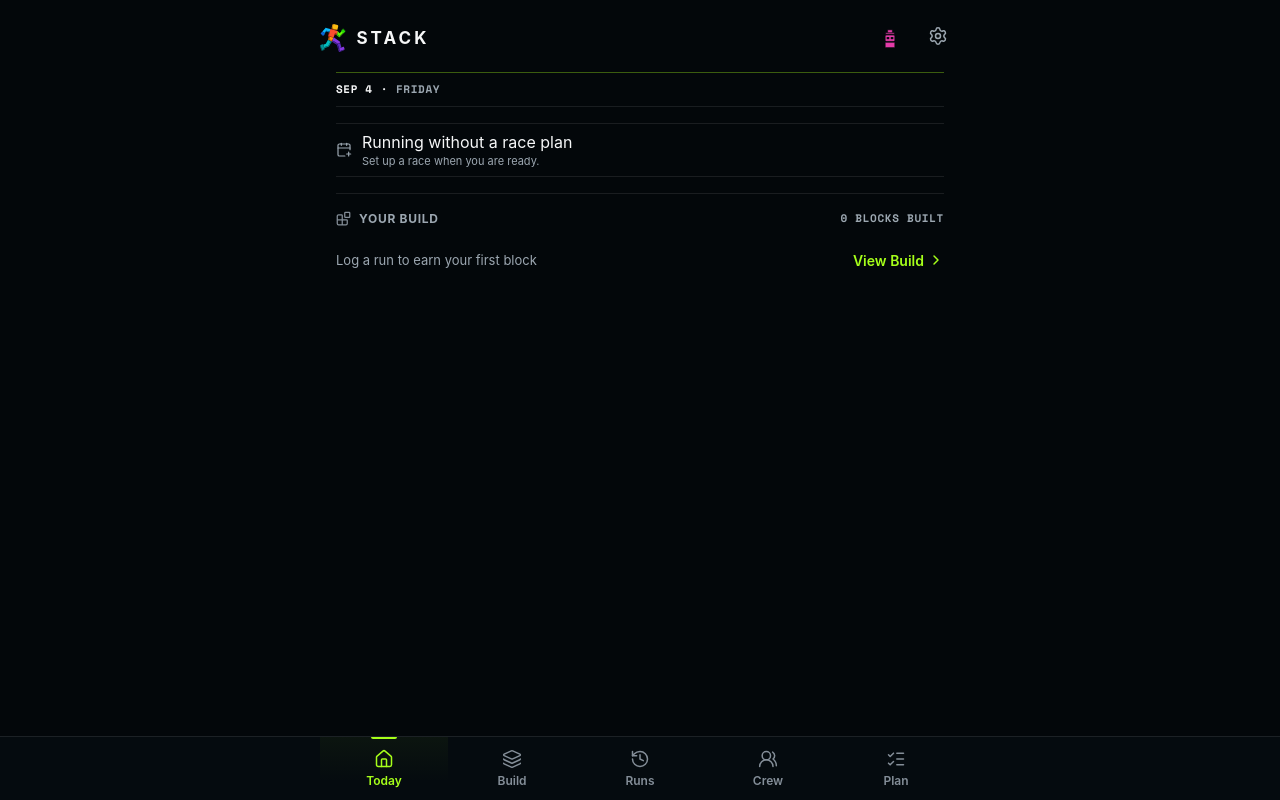
Test: Crew as a conditional destination › leaves Runs personal, with no crew context and no second crew surface
Click the button "Runs".
click(640, 768)  # box [576,737,704,799]
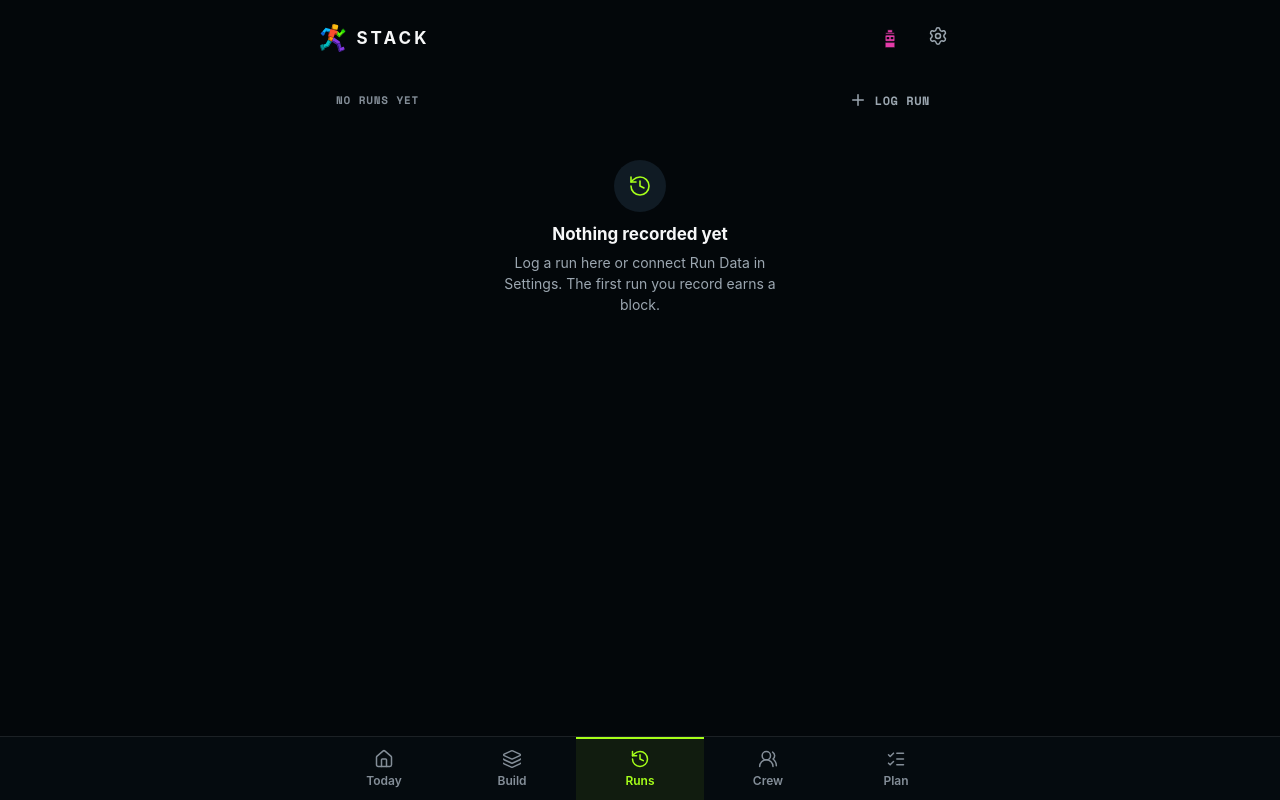
Result: the text "Nothing recorded yet" is shown at [552,224,728,244]
Result: the button "Log Run" is shown at [835,78,944,122]
